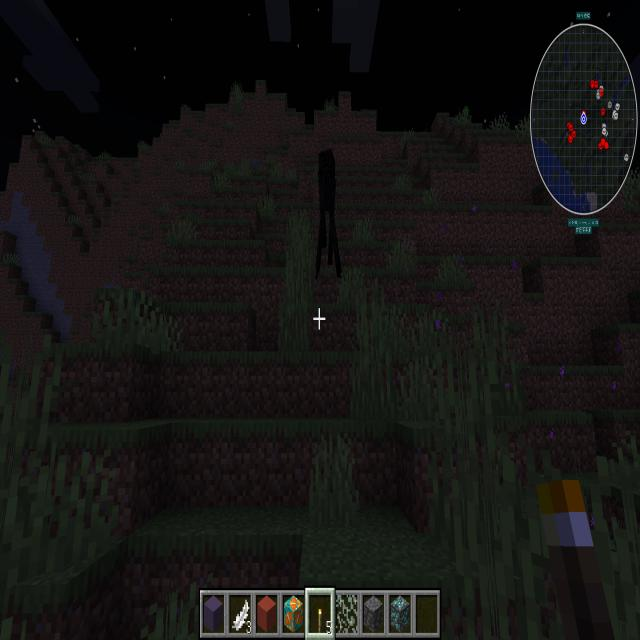Enderman: (306, 137, 350, 290)
